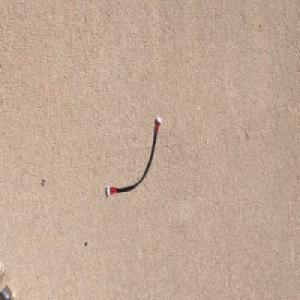Wire: (105, 115, 162, 198)
